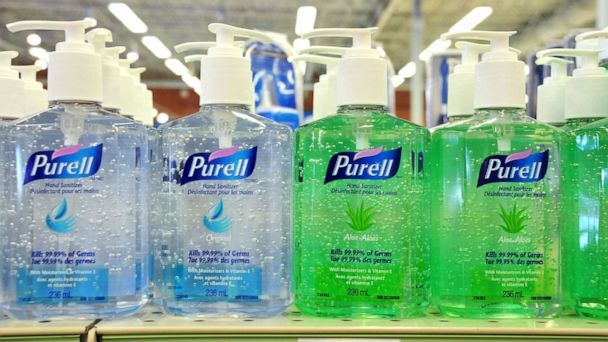Sanitizer: (2, 15, 150, 317), (289, 19, 436, 321), (147, 18, 293, 317), (426, 24, 563, 325), (561, 24, 605, 323)
